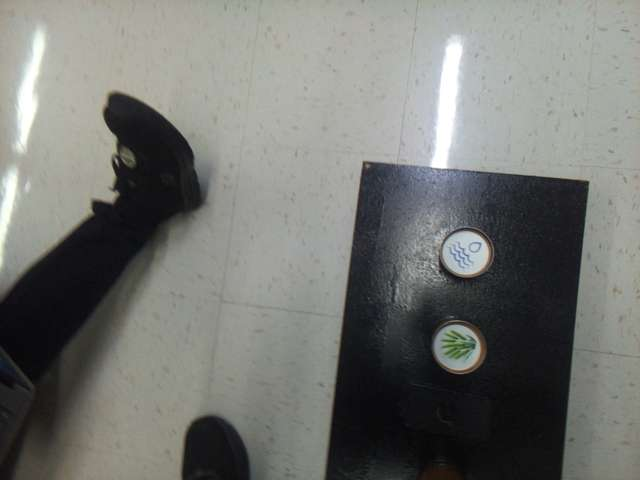water_barrel: (443, 233, 487, 276)
wheat_barrel: (438, 325, 480, 368)
